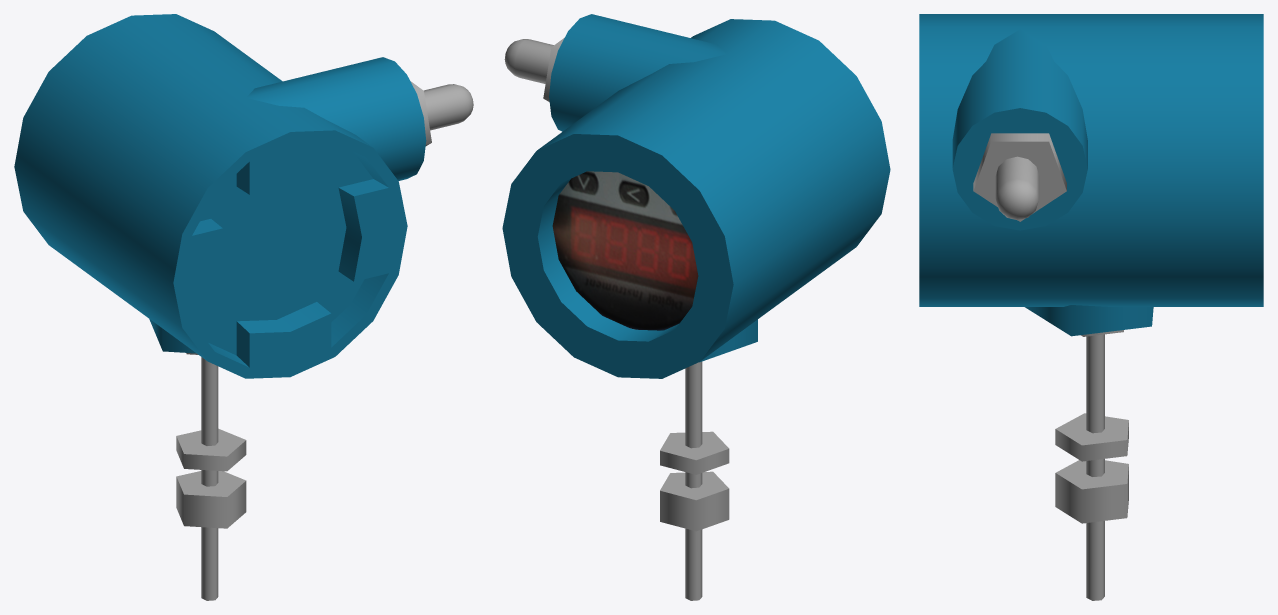
File: pressure_sensor.obj
3 views of the same model, side by side, from view 1: azimuth 30°, elevation 25°; view 2: azimuth 150°, elevation 25°; view 3: azimuth 270°, elevation 25° (orthographic). The views are drawn at different scales.
Visible parts, largest first — view 1: __, __.5, __.3, __.4, __.1; view 2: __, __.5, __.3, __.4, __.1; view 3: __, __.1, __.5, __.3, __.4.
Part boxes in pixels (left/top/right/bottom): __: left=14, top=14, right=473, bottom=378; __.5: left=176, top=471, right=246, bottom=528; __.3: left=201, top=357, right=218, bottom=600; __.4: left=176, top=428, right=246, bottom=471; __.1: left=149, top=81, right=431, bottom=353; __: left=502, top=14, right=890, bottom=378; __.5: left=660, top=471, right=729, bottom=531; __.3: left=685, top=361, right=702, bottom=600; __.4: left=660, top=431, right=729, bottom=474; __.1: left=543, top=37, right=757, bottom=362; __: left=919, top=14, right=1263, bottom=306; __.1: left=973, top=133, right=1153, bottom=336; __.5: left=1055, top=460, right=1128, bottom=523; __.3: left=1086, top=334, right=1104, bottom=600; __.4: left=1055, top=413, right=1128, bottom=461.
Size of the model in its own units: 135 by 197 by 108.
